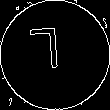L_S: (38, 29, 72, 81)
